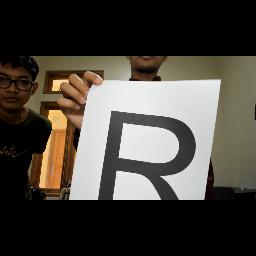r: (92, 106, 204, 200)
